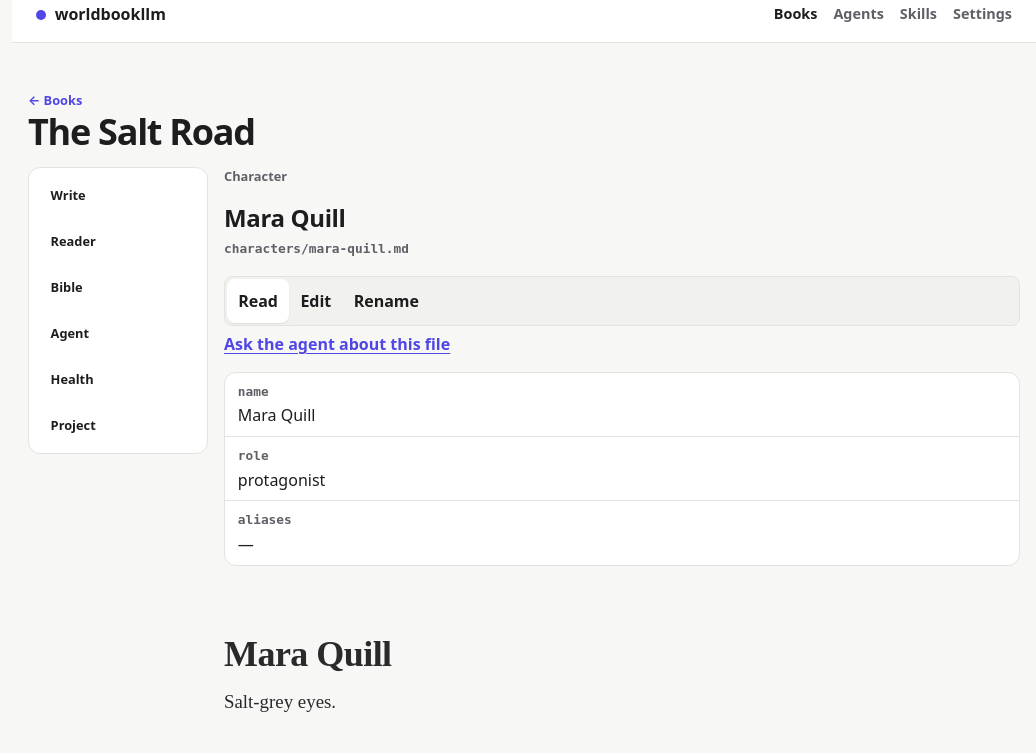
Scenario: book files › renames an entity and follows it to its new path
Click the button "Rename". click: click(386, 302)
box: [342,280,430,324]
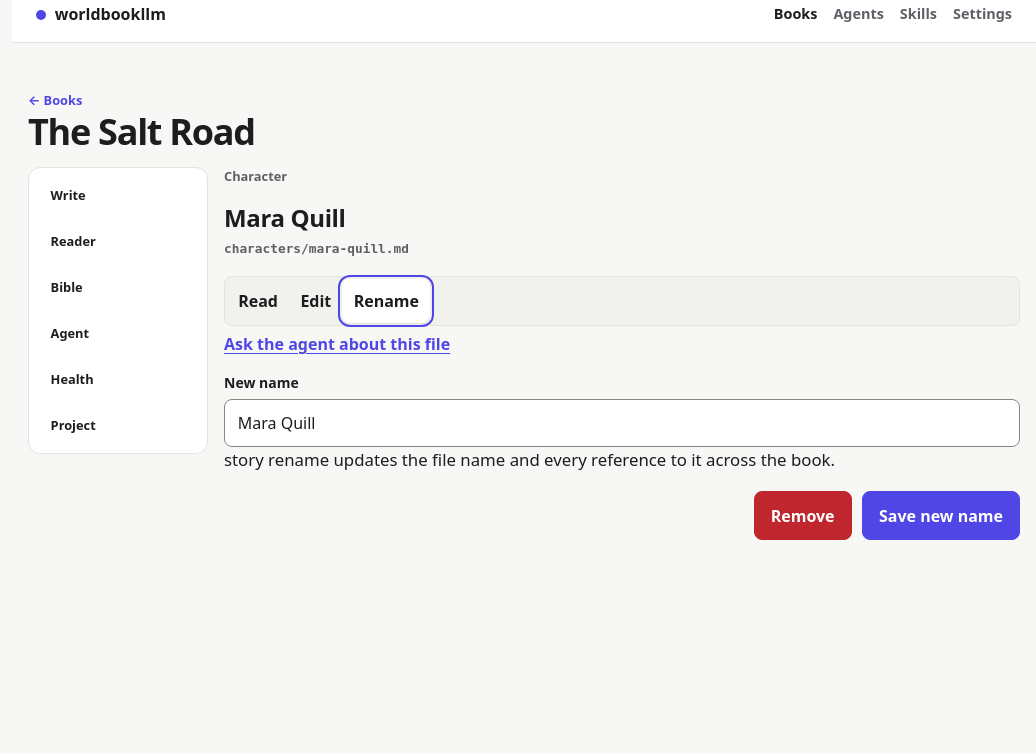
Replace the text in the field labelled "New name" with "Mara Venn". click: (622, 423)
box: [224,399,1020,447]
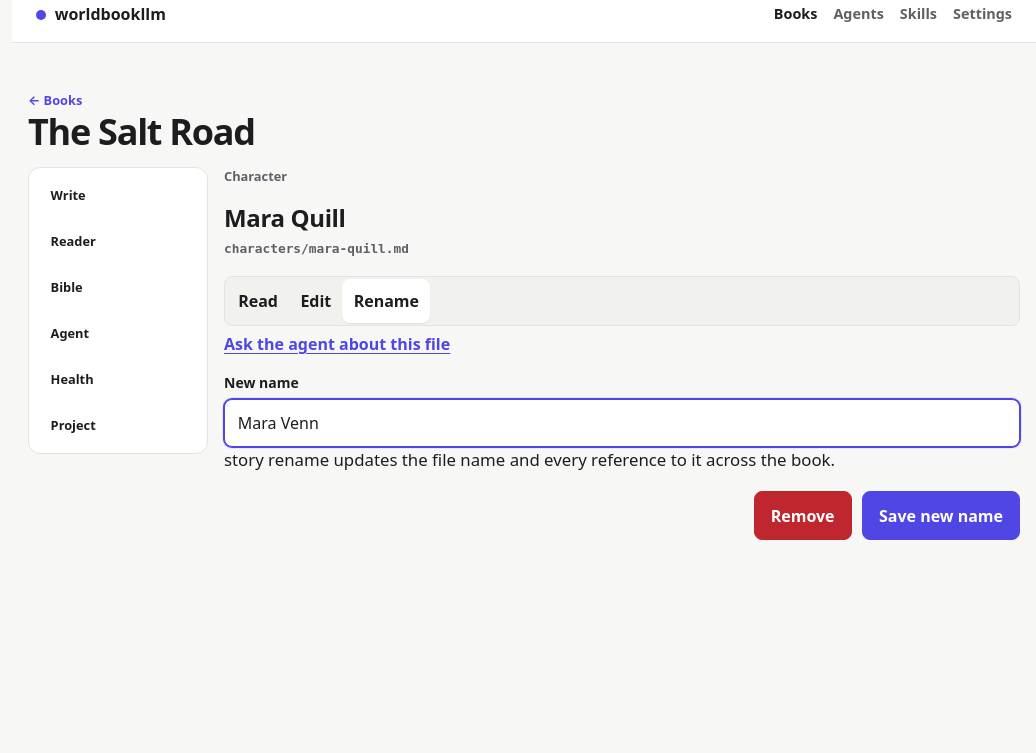
Click the button "Save new name". click: click(941, 516)
box: [862,491,1020,540]
(page scrolled)
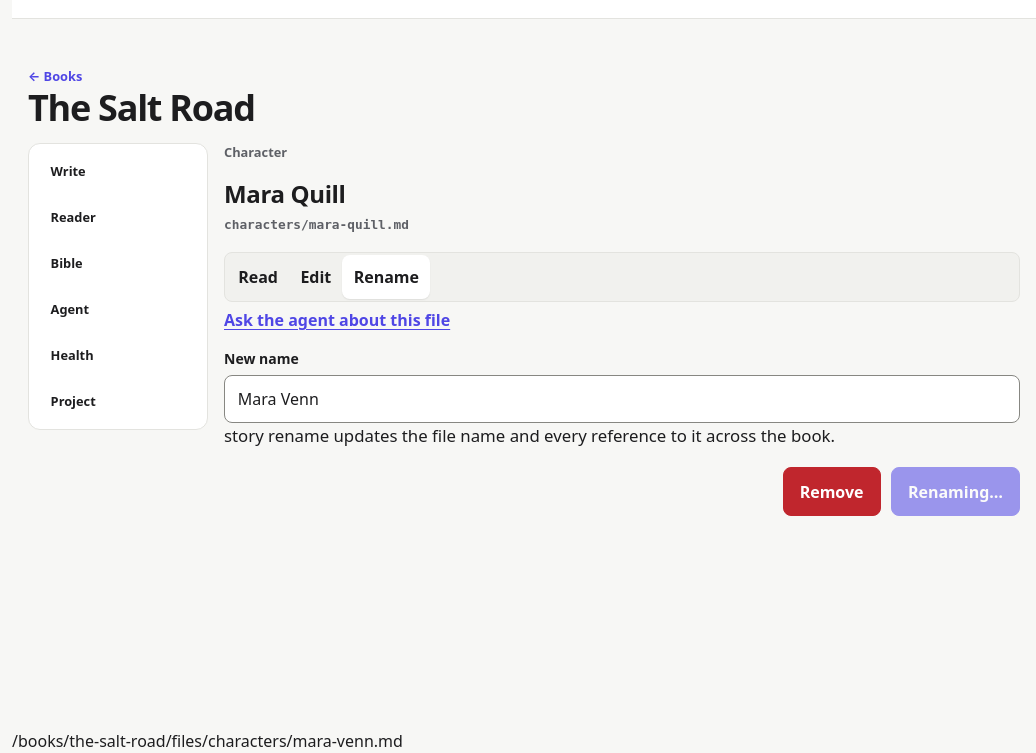
Expected: the text with test id "location" reads "/books/the-salt-road/files/characters/mara-venn.md", [12,730,403,752]
